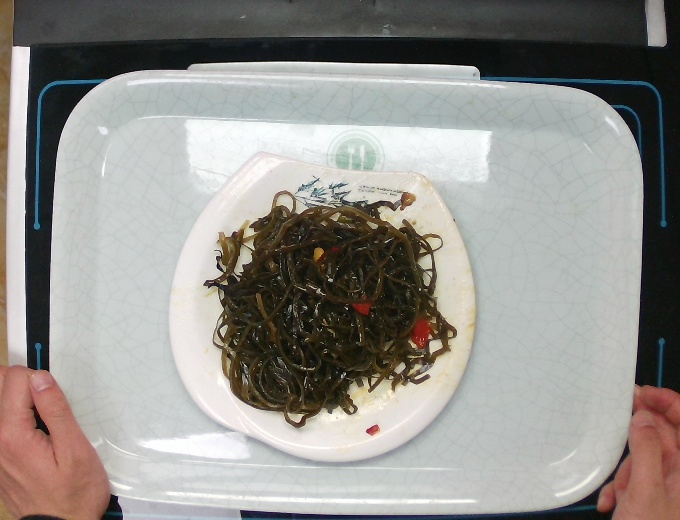JYsf-Mian_Pan: (167, 154, 480, 464)
